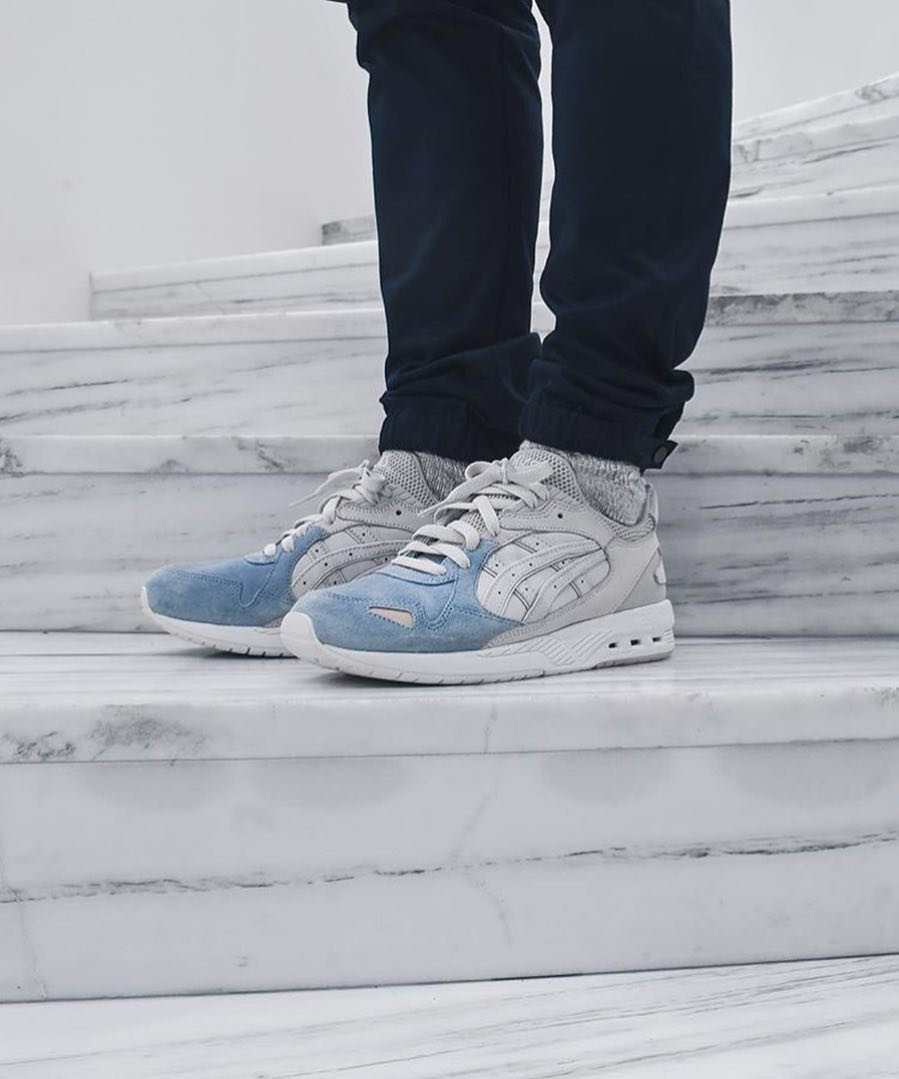sneaker: (252, 422, 726, 712), (125, 420, 505, 670)
